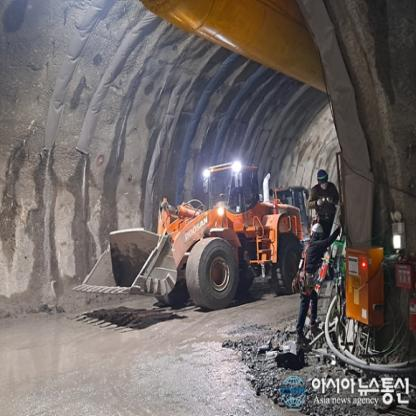bull_dozer/loader/grader: (68, 147, 304, 310)
person: (294, 212, 336, 338), (302, 169, 341, 228)
